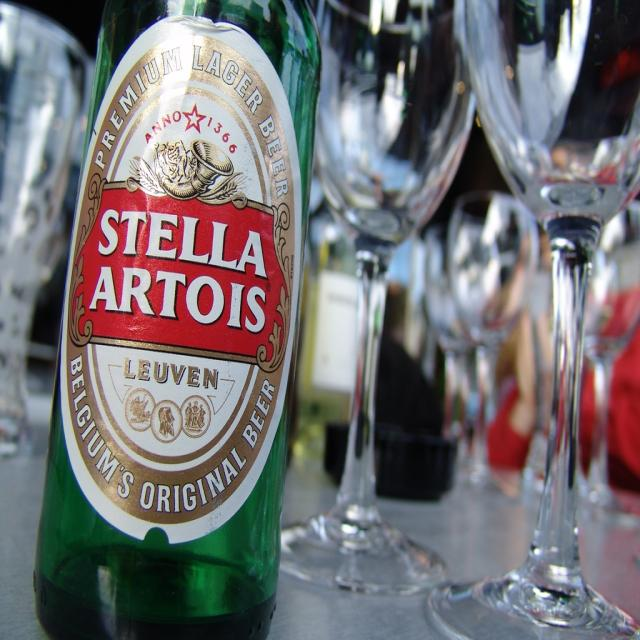stellaartois: (67, 38, 298, 525)
